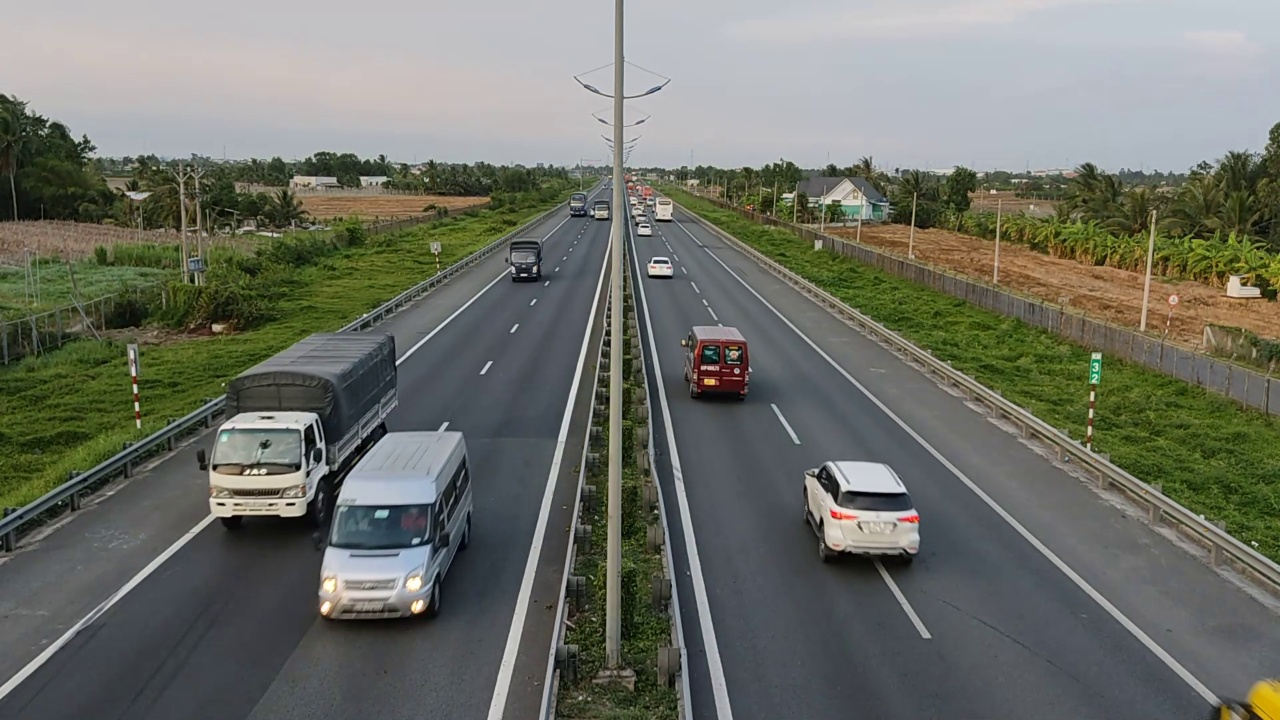car: (314, 423, 475, 623), (801, 459, 921, 561), (678, 319, 750, 404), (647, 256, 675, 279)
truck: (203, 318, 398, 540)
